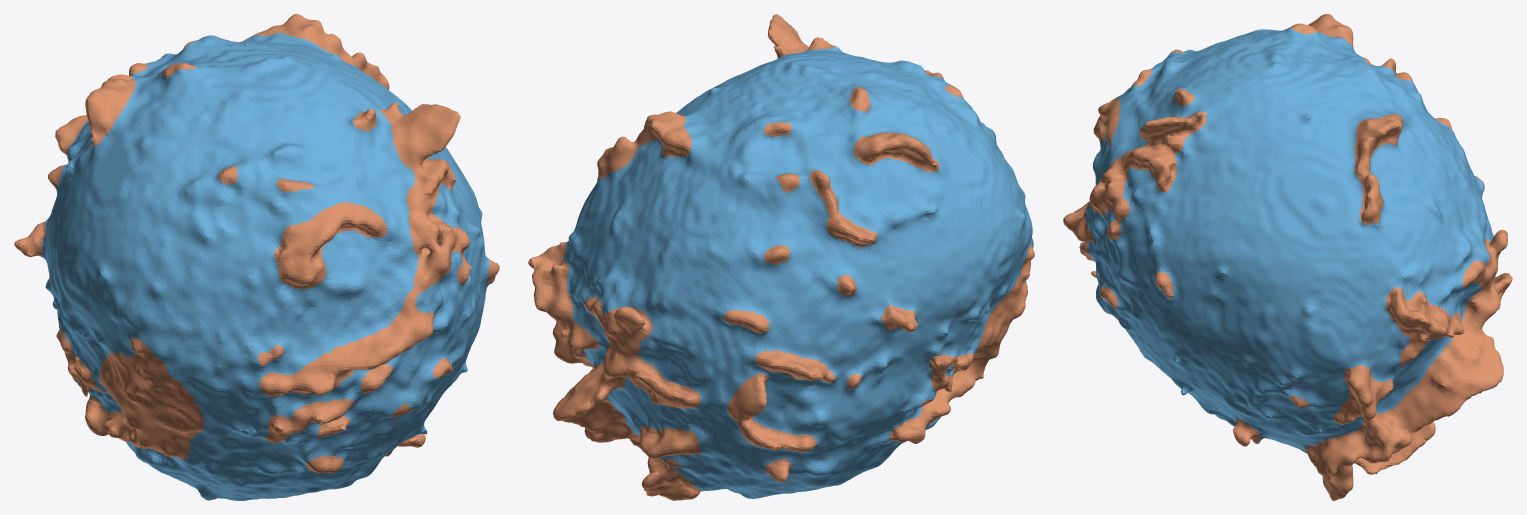
3 renders of one model, left to right at view 1: azimuth 30°, elevation 25°; view 2: azimuth 150°, elevation 25°; view 3: azimuth 270°, elevation 25°, orthographic. The views are drawn at different scales.
Bounding box in the file's own units: 127 × 134 × 137.
